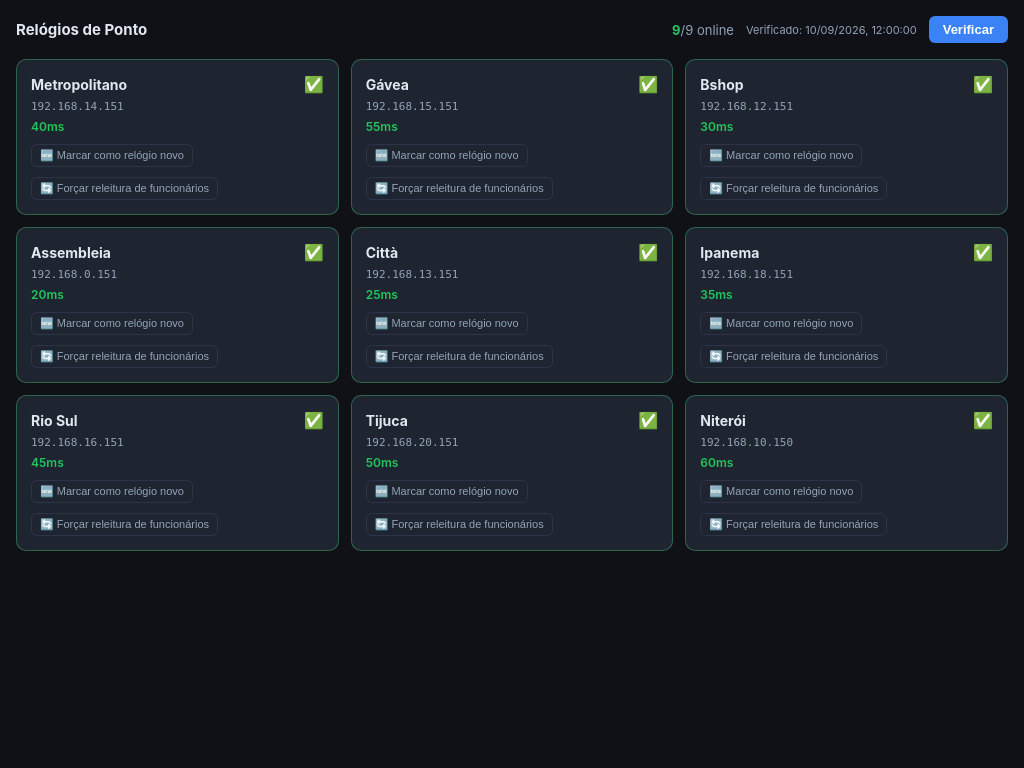
Test: ClockStatusGrid — botão "Forçar releitura de funcionários" › mostra erro se refreshClocks falhar
Click the button "🔄 Forçar releitura de funcionários" below "40": point(124, 188) x1=31 y1=177 x2=218 y2=200
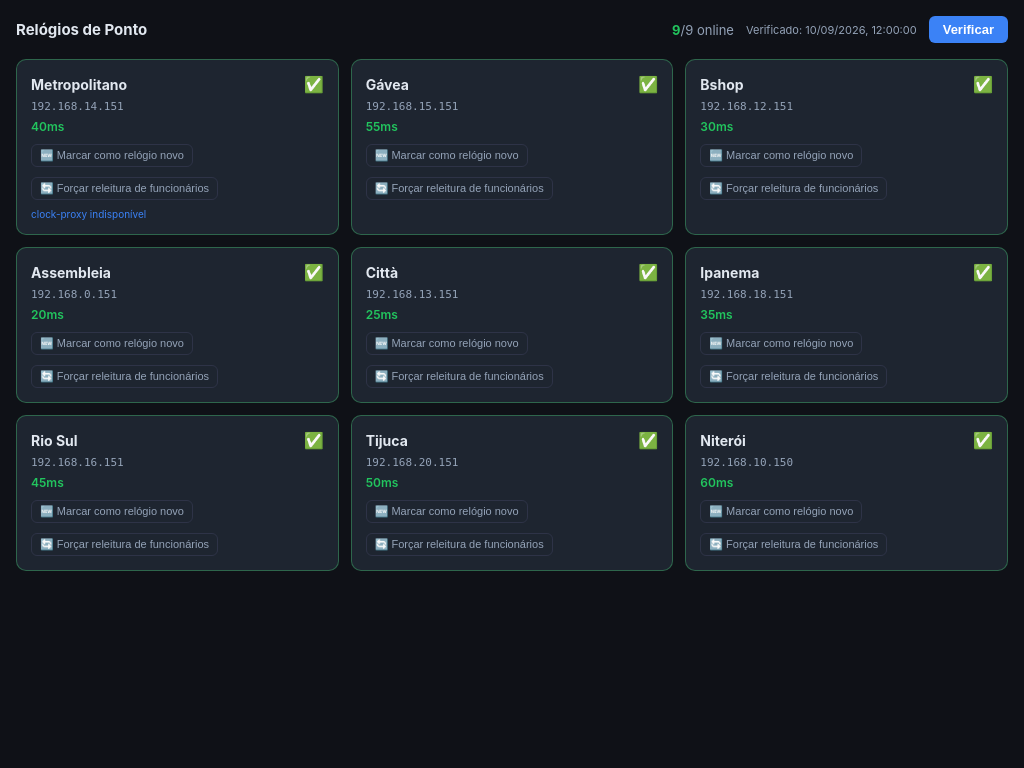
Expected: the text "clock-proxy indisponível" is shown, x1=31 y1=208 x2=146 y2=220
